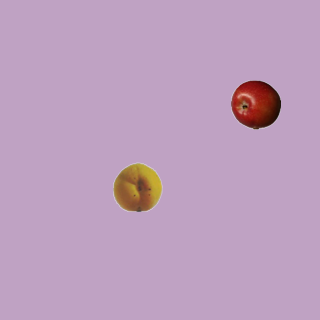Apple Braeburn: (230, 79, 280, 129)
Peach 2: (112, 161, 162, 211)
